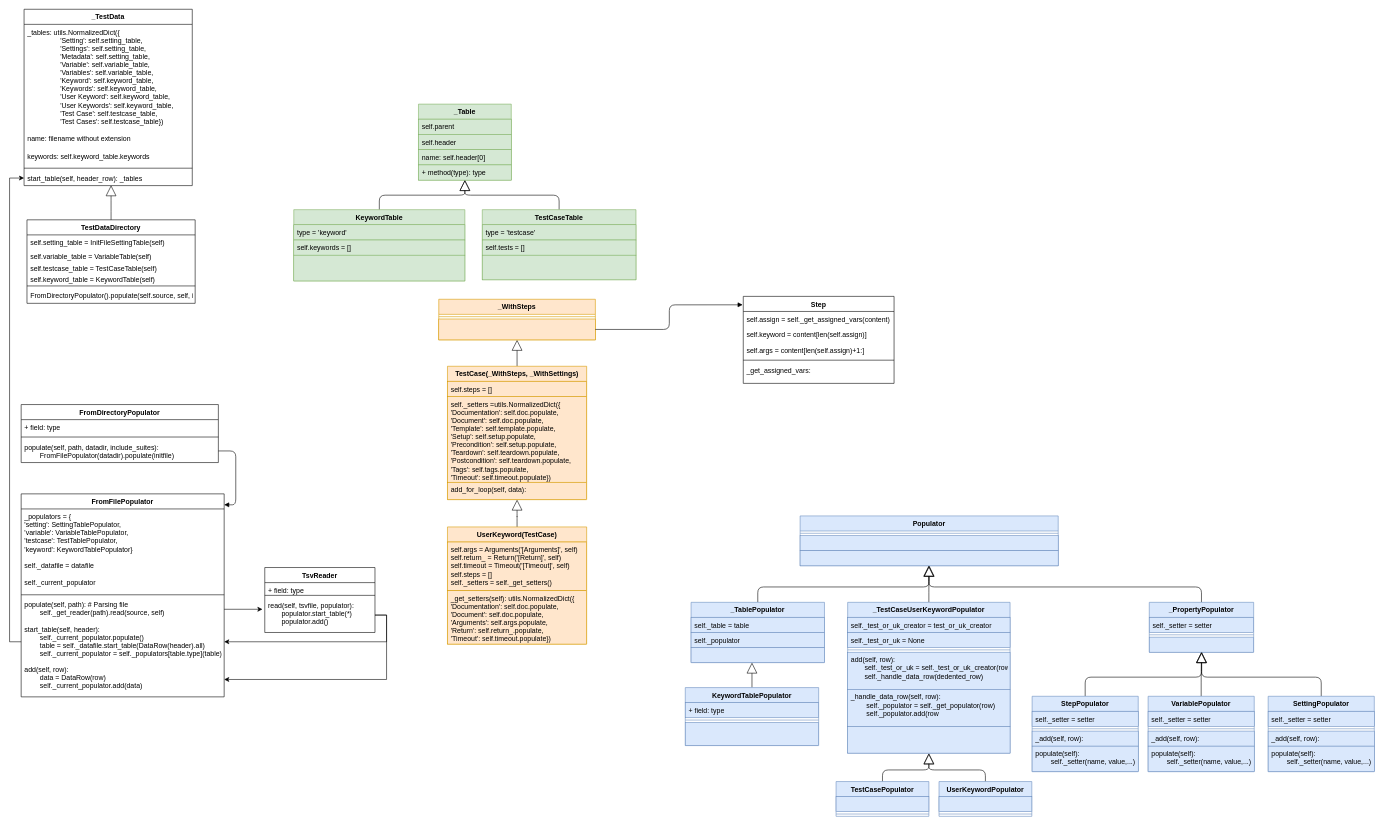
Some shapes in this 1384 by 826 pixel diagram are drawn without their labels. Here are the shapes that lost their labels. From the top down, the centre of each, then its label:
At (x=379, y=268): "add(self, name): self.keywords.append(UserKeyword(self, name))".
At (x=559, y=267): "add(self, name): self.tests.append(TestCase(self, name))".
At (x=516, y=329): "add_step(self, content, comment=None): self.steps.append(Step(content, comment))".
At (x=929, y=543): "add(self, row): raise NotImplementedError()".
At (x=929, y=558): "populate(self): raise NotImplementedError()".
At (x=757, y=655): "add(self, row): self._populator.add(row)".
At (x=1201, y=644): "add(self, row):".
At (x=752, y=734): "_get_populator(self, row): UserKeywordPopulator(self._table.add)".
At (x=928, y=739): "_get_populator(self, row): return StepPopulator(self._test_or_uk.add_step)".
At (x=882, y=804): "_item_type = 'test case'".
At (x=985, y=804): "_item_type = 'keyword'".
